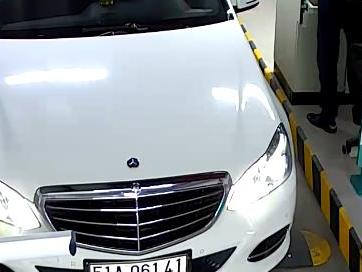number: (89, 253, 190, 272)
